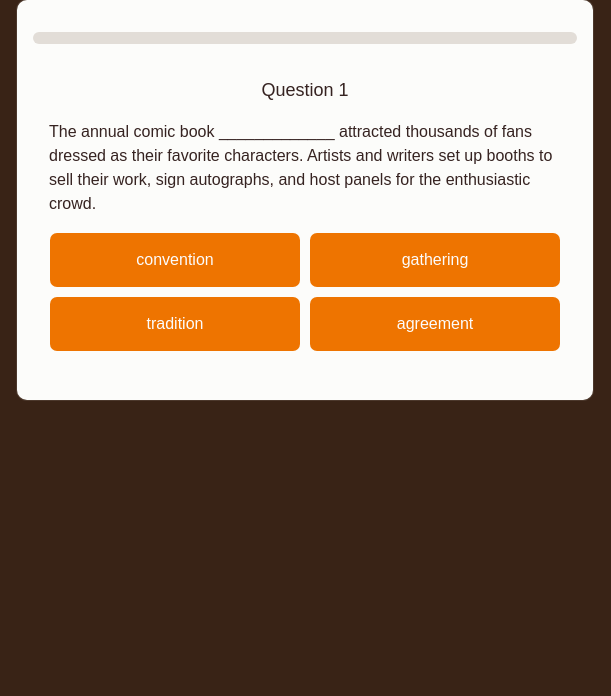
it: Next button is only displayed after the correct option has been selected
Expected: the button "Next" is not shown
# Next button is absent after an incorrect option is clicked
Click the button "tradition" at point(175, 324), box [49,296,301,352]
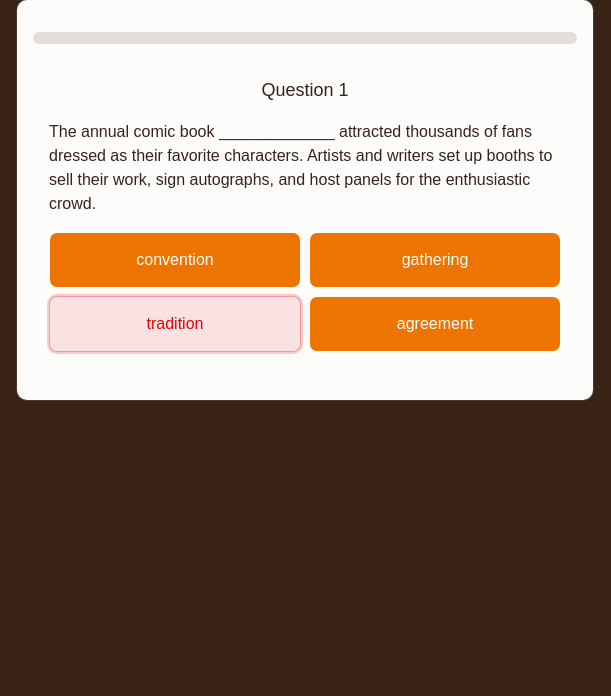
Expected: the button "Next" is not shown
# Next button is present after the correct option is clicked
Click the button "convention" at point(175, 260), box [49,232,301,288]
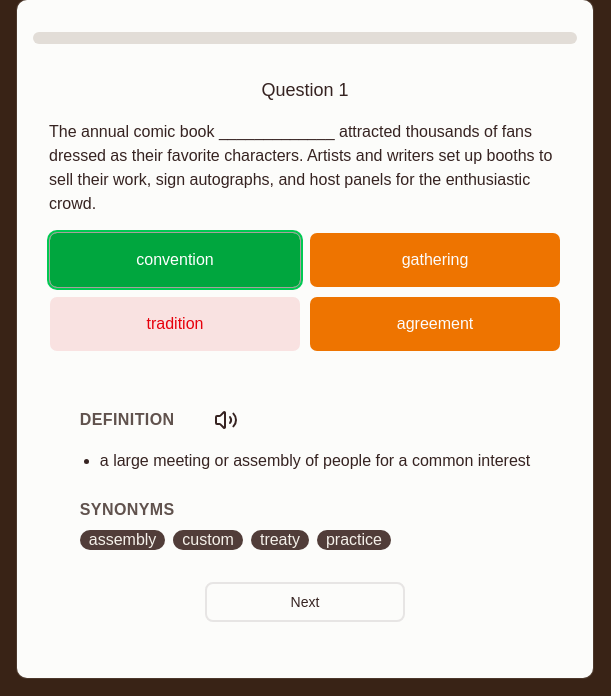
Now the button "Next" is shown, box [205,582,405,622]
